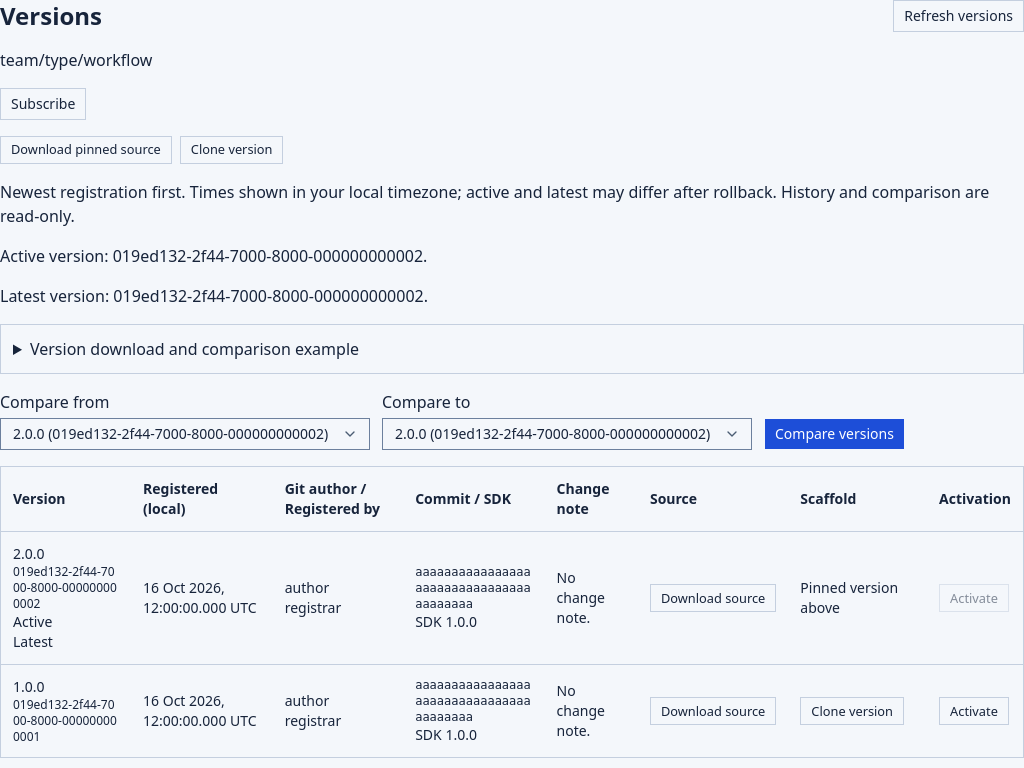
it: Admin-only immutable version activation › surfaces HTTP 403, retains the target and requires explicit retry
Click the button "Activate" in the row of "019ed132-2f44-7000-8000-000000000001". click: [974, 711]
box: [939,697,1009,725]
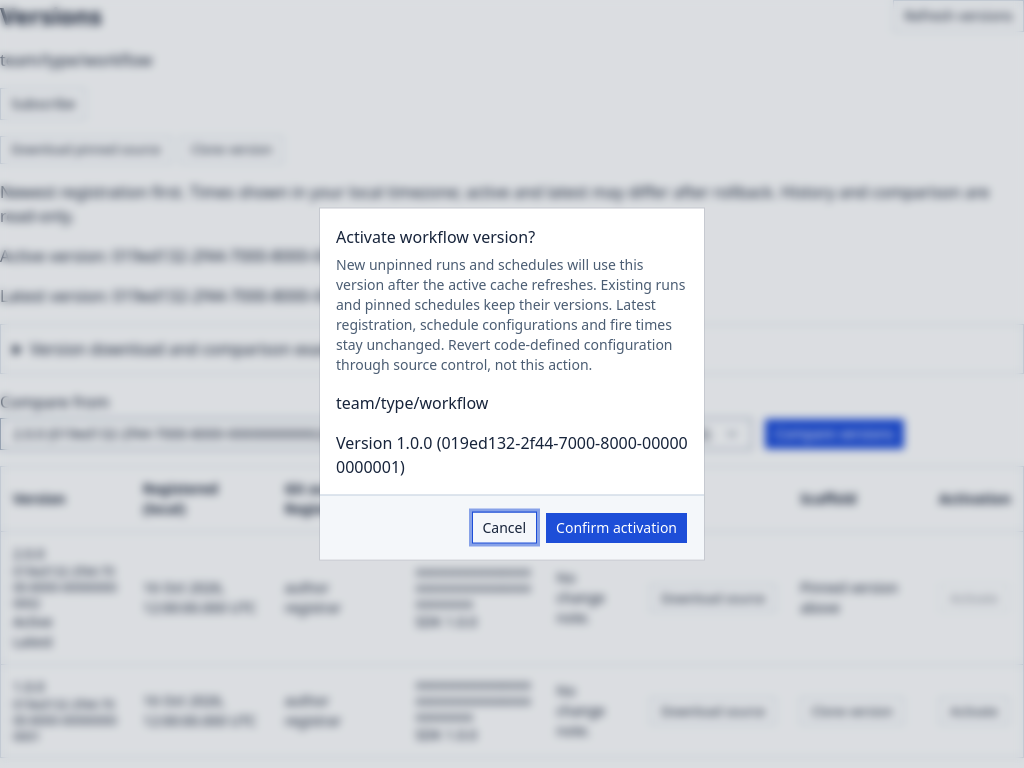
Click the button "Confirm activation". click: [617, 528]
box: [545,512,688,544]
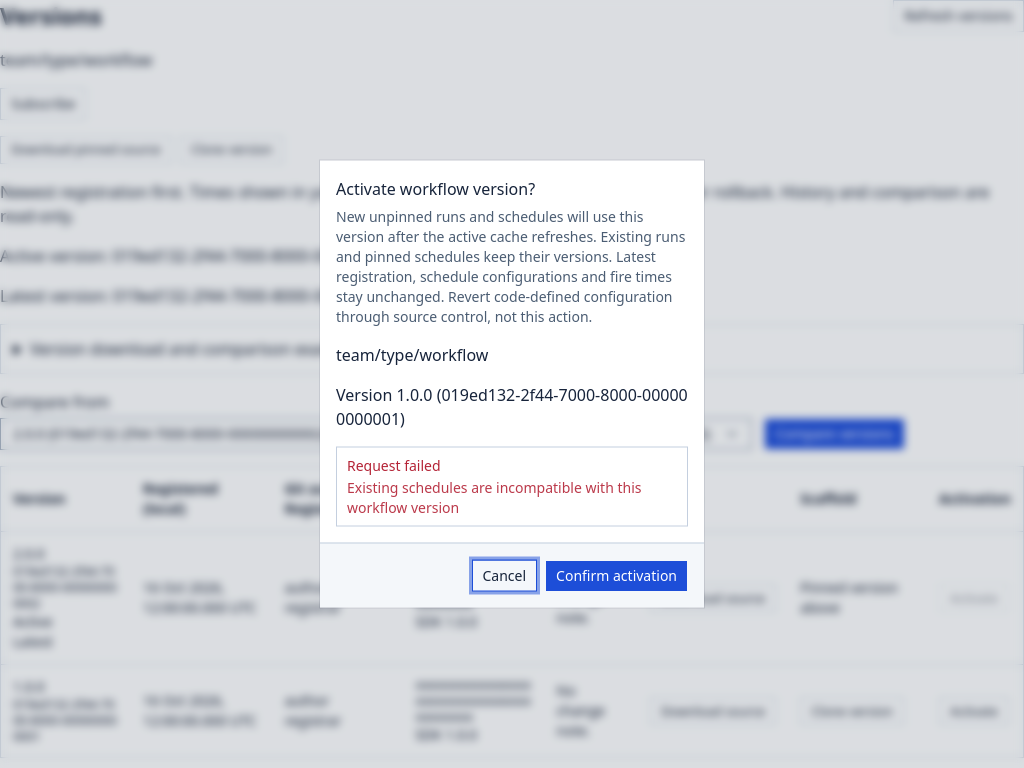
Expected: the button "Confirm activation" is enabled
Expected: the message shows "Existing schedules are incompatible", [347,478,642,516]
Click the button "Confirm activation". click: [617, 576]
box: [545,560,688,592]
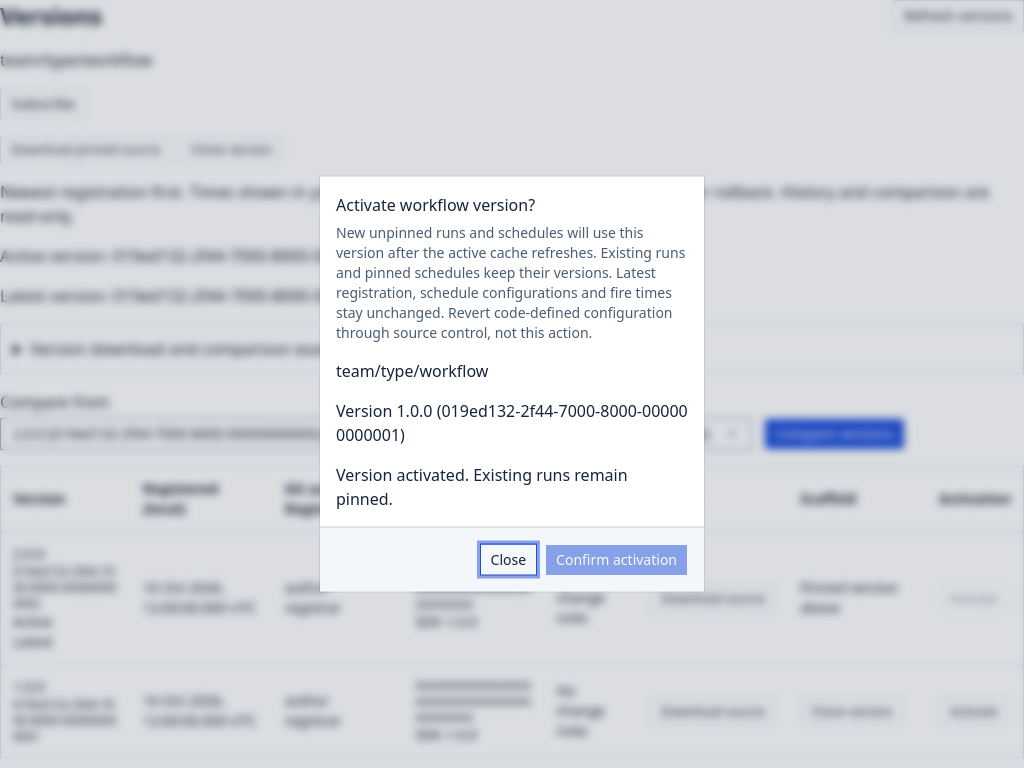
Expected: the text "Version activated. Existing runs remain pinned." is shown, [336,464,628,510]
